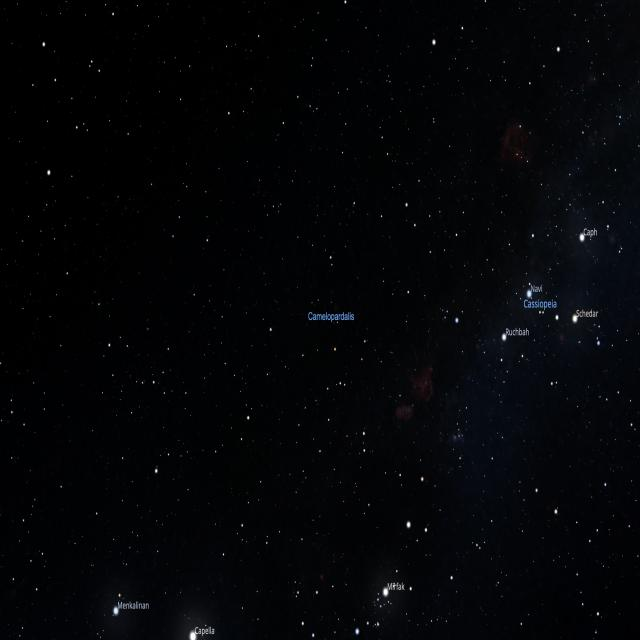Camelopardalis: (267, 118, 369, 438)
